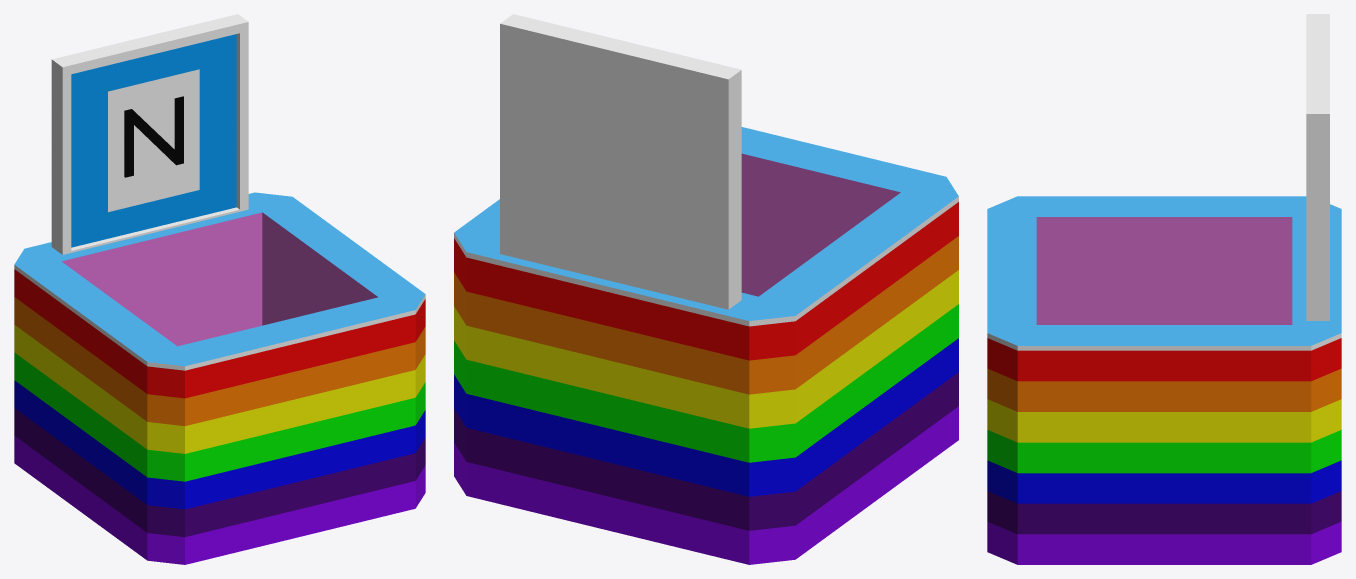
3 views of the same model, side by side, from view 1: azimuth 30°, elevation 25°; view 2: azimuth 150°, elevation 25°; view 3: azimuth 270°, elevation 25° (orthographic). The views are drawn at different scales.
Visible parts, largest first — view 1: Cube.001, Text; view 2: Cube.001; view 3: Cube.001.
Part boxes in pixels (left/top/right/bottom): Cube.001: left=14, top=14, right=425, bottom=564; Text: left=124, top=96, right=183, bottom=177; Cube.001: left=454, top=14, right=958, bottom=564; Cube.001: left=987, top=14, right=1341, bottom=564.
Bounding box in the file's own units: 383 × 508 × 383.
